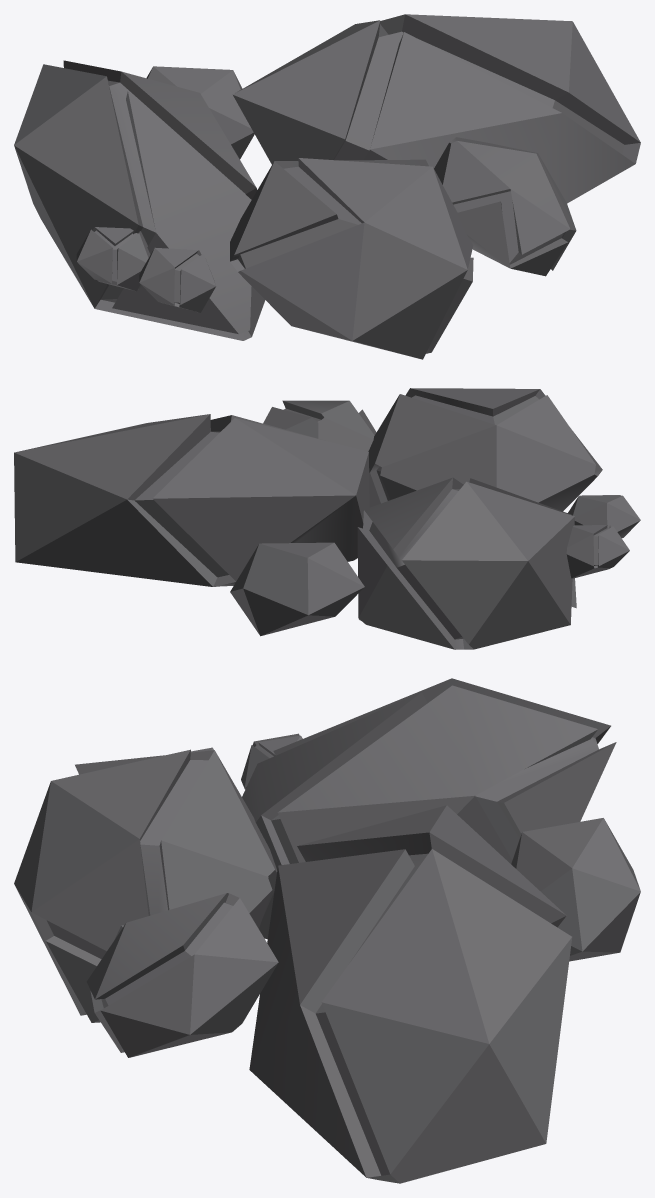
Rendered from Piedras Rotas.fbx.
3 renders of one model, top to bottom at view 1: azimuth 30°, elevation 25°; view 2: azimuth 150°, elevation 25°; view 3: azimuth 270°, elevation 25°, orthographic. The views are drawn at different scales.
Visible parts, largest first — view 1: polySurface309; view 2: polySurface309; view 3: polySurface309.
Part boxes in pixels (left/top/right/bottom): polySurface309: left=14, top=14, right=640, bottom=359; polySurface309: left=14, top=388, right=640, bottom=649; polySurface309: left=14, top=678, right=640, bottom=1183.
Bounding box in the file's own units: 1.25 × 0.4117 × 0.9356.
